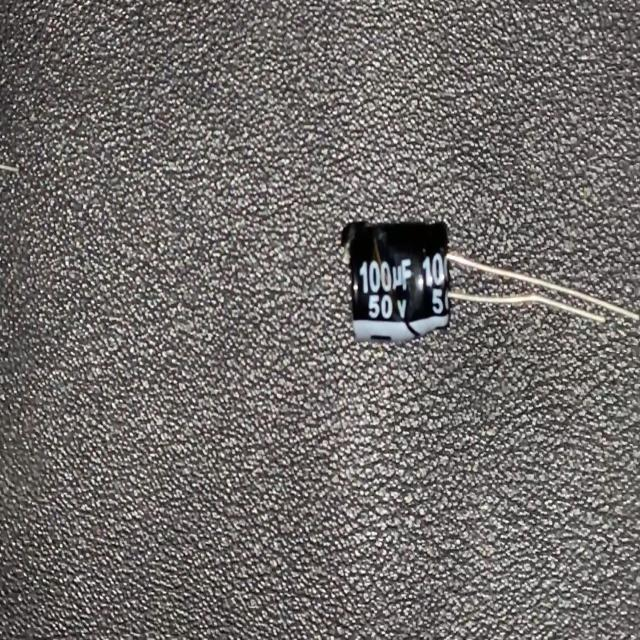capacitor: (335, 212, 640, 349)
cracked: (371, 231, 409, 325), (338, 220, 367, 269)
